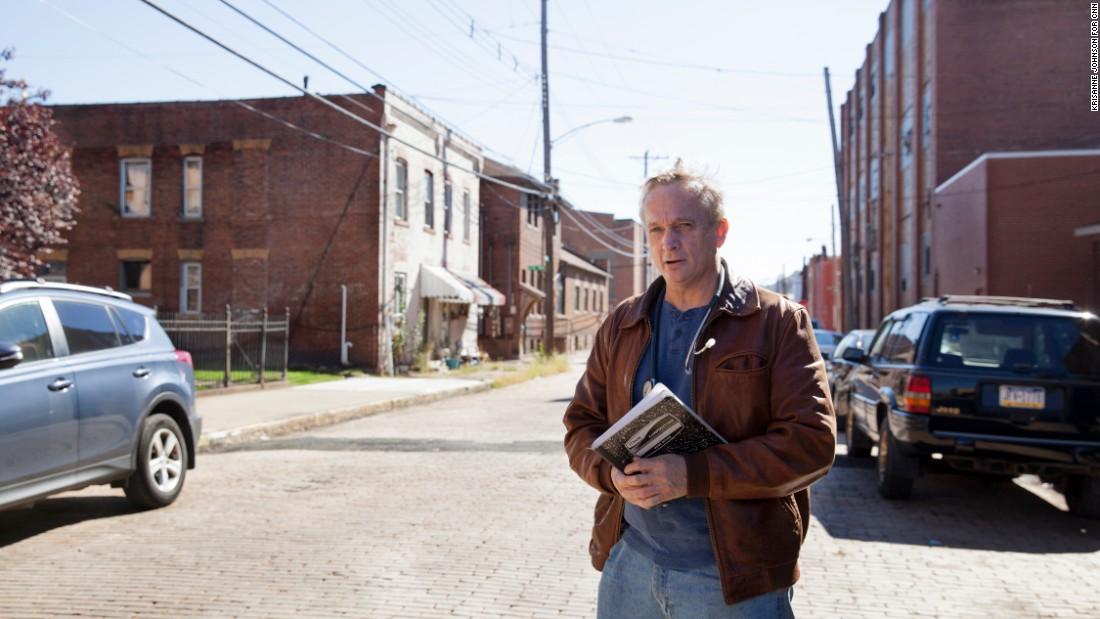Person: (560, 172, 841, 619)
